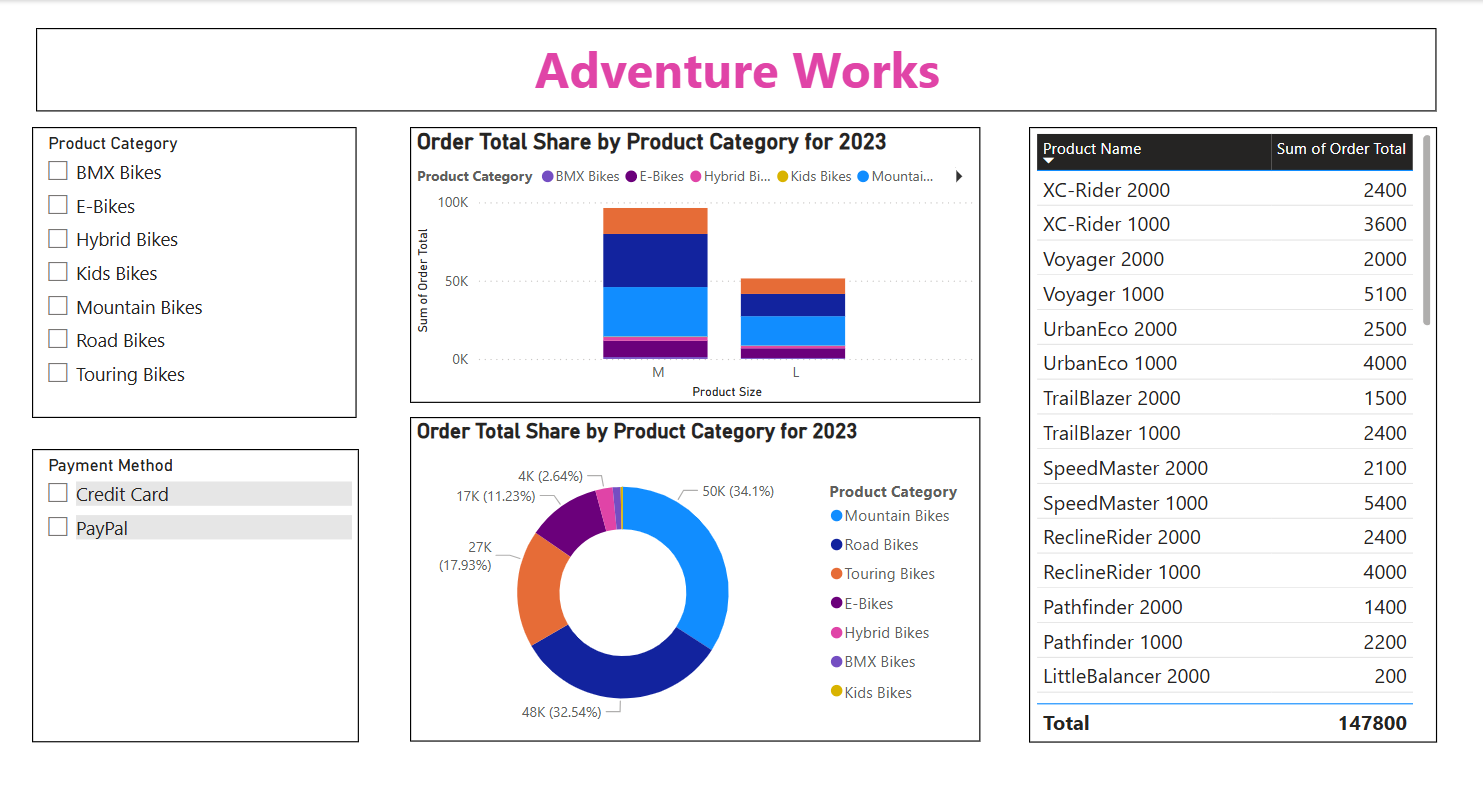

The dashboard page shown, as its layout file describes it:
{"tool":"powerbi","page":{"name":"Exercise: Generate a visualization","canvas":[1280,720],"ordinal":0},"visuals":[{"type":"slicer","fields":{"Values":["6_AdventureWorks-sales-dataset.Product Category"]},"box":[28.7,109.3,280.3,250.7],"z":0},{"type":"slicer","fields":{"Values":["6_AdventureWorks-sales-dataset.Payment Method"]},"box":[28.7,386.9,282.1,253.4],"z":1000},{"type":"lineStackedColumnComboChart","title":"Order Total Share by Product Category for 2023","fields":{"Y":["Sum(6_AdventureWorks-sales-dataset.Order Total)"],"Category":["6_AdventureWorks-sales-dataset.Product Size"],"Series":["6_AdventureWorks-sales-dataset.Product Category"]},"box":[354.6,109.3,491.6,238.2],"z":2000},{"type":"donutChart","title":"Order Total Share by Product Category for 2023","fields":{"Y":["Sum(6_AdventureWorks-sales-dataset.Order Total)"],"Category":["6_AdventureWorks-sales-dataset.Product Category"]},"box":[354.6,360,491.6,280.3],"z":3000},{"type":"tableEx","fields":{"Values":["6_AdventureWorks-sales-dataset.Product Name","Sum(6_AdventureWorks-sales-dataset.Order Total)"]},"box":[888.4,109.3,351.9,531],"z":4000},{"type":"textbox","box":[32,24,1208,72],"z":5000}]}

Visuals, with their boxes in screenshot pixels (x1, y1, x2, y2), scaled from the page's 1280x720 canvas onto the 1483x812 screenshot:
slicer - 6_AdventureWorks-sales-dataset.Product Category: [x1=33, y1=123, x2=358, y2=406]
slicer - 6_AdventureWorks-sales-dataset.Payment Method: [x1=33, y1=436, x2=360, y2=722]
"Order Total Share by Product Category for 2023" lineStackedColumnComboChart: [x1=411, y1=123, x2=980, y2=392]
"Order Total Share by Product Category for 2023" donutChart: [x1=411, y1=406, x2=980, y2=722]
tableEx - 6_AdventureWorks-sales-dataset.Product Name x Sum(6_AdventureWorks-sales-dataset.Order Total): [x1=1029, y1=123, x2=1437, y2=722]
textbox: [x1=37, y1=27, x2=1437, y2=108]
